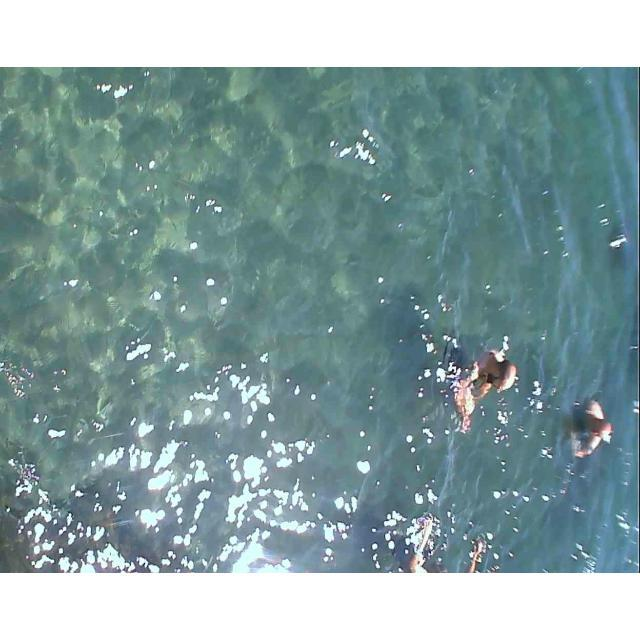human: (450, 337, 511, 438), (570, 388, 614, 463)
